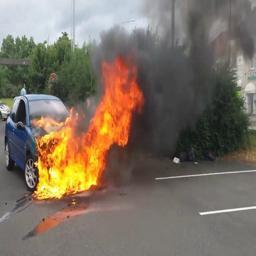fire: (32, 51, 144, 198)
